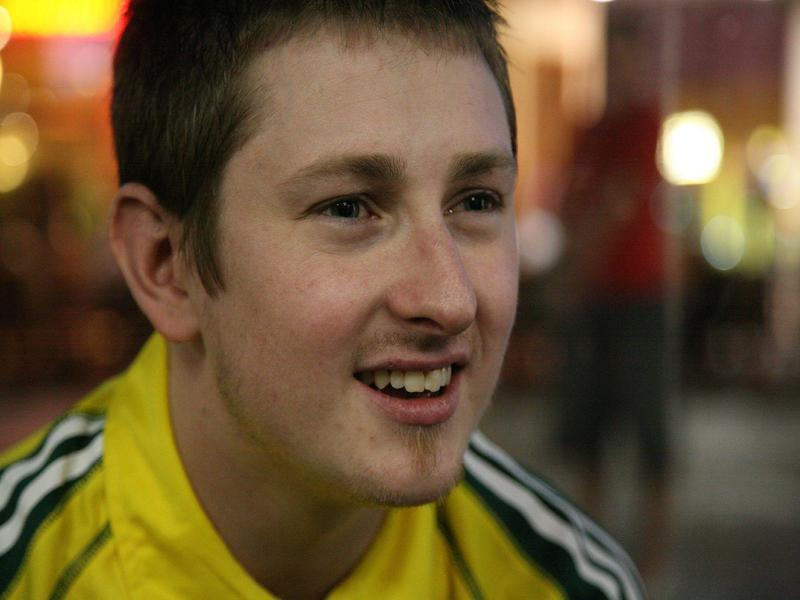person: (1, 1, 652, 595)
